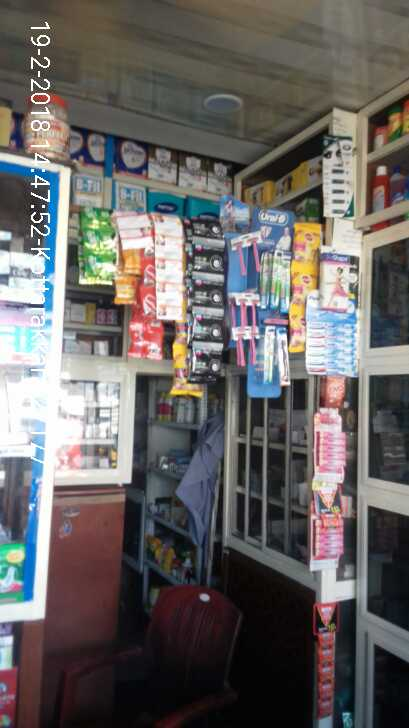reject: (156, 261, 199, 340)
